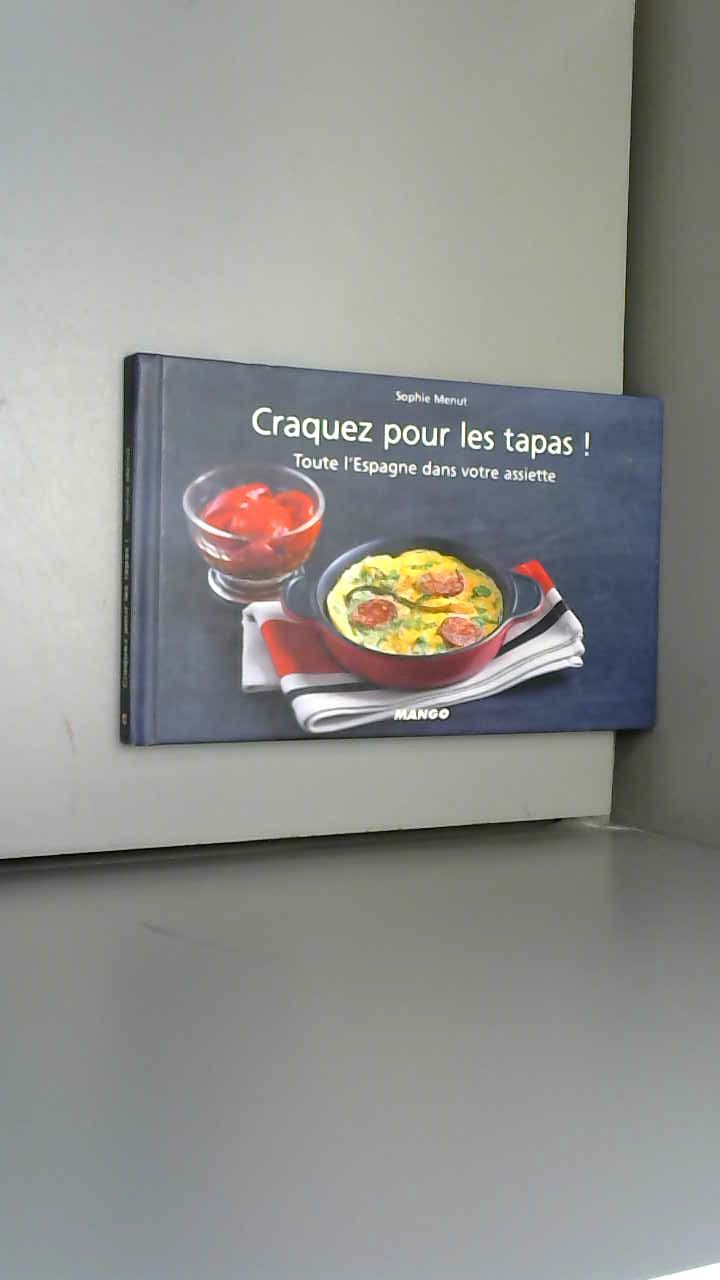book: (73, 325, 702, 794)
